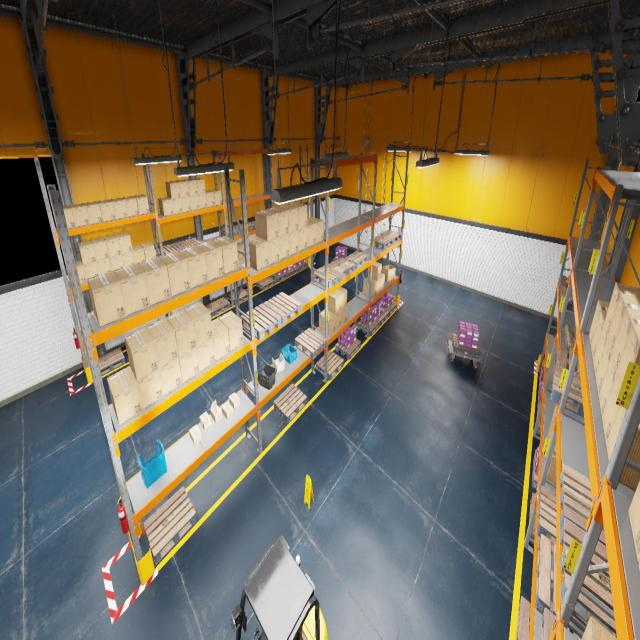box: (606, 406, 640, 491), (87, 271, 126, 326), (107, 366, 142, 425), (604, 282, 640, 337), (113, 263, 150, 315), (608, 294, 640, 354), (124, 327, 159, 381), (612, 307, 640, 373), (137, 257, 171, 305), (146, 317, 178, 368), (616, 324, 640, 388), (158, 251, 191, 296), (166, 309, 196, 356), (177, 245, 208, 288), (184, 302, 213, 346), (602, 375, 620, 445), (195, 240, 224, 281), (138, 369, 164, 410), (211, 236, 239, 274), (599, 356, 616, 418), (218, 310, 243, 351), (628, 480, 640, 562), (589, 299, 609, 346), (159, 357, 182, 396), (596, 338, 611, 396), (581, 616, 617, 640), (211, 318, 230, 361), (591, 310, 607, 360), (178, 347, 200, 382), (593, 324, 607, 378), (255, 209, 278, 241), (266, 207, 289, 237), (249, 236, 268, 270), (197, 337, 215, 372), (277, 204, 298, 233), (286, 202, 307, 230), (70, 203, 90, 227), (77, 240, 96, 264), (84, 201, 103, 224), (90, 237, 108, 261), (546, 442, 556, 484), (319, 310, 335, 336), (308, 217, 324, 243), (103, 235, 121, 257), (98, 200, 116, 222), (110, 198, 127, 219), (116, 232, 132, 254), (133, 194, 150, 214), (122, 196, 138, 217), (62, 205, 76, 229), (83, 262, 99, 282), (328, 291, 341, 314), (268, 238, 279, 265), (140, 242, 156, 260), (75, 260, 87, 284), (158, 197, 173, 216), (188, 424, 202, 444), (363, 277, 377, 297), (279, 233, 289, 260), (210, 400, 222, 422), (335, 287, 347, 309), (183, 179, 198, 196), (368, 262, 382, 280), (175, 180, 189, 198), (166, 180, 180, 198), (289, 230, 299, 255), (382, 264, 395, 282), (132, 245, 145, 263), (200, 411, 212, 430), (121, 251, 135, 267), (97, 258, 111, 274), (192, 178, 206, 194), (110, 255, 124, 270), (222, 401, 233, 420), (368, 277, 381, 293), (308, 221, 316, 247), (209, 189, 222, 205), (299, 227, 307, 251), (229, 392, 240, 408), (172, 197, 182, 214), (550, 355, 556, 382), (181, 196, 191, 212), (198, 193, 207, 209), (206, 190, 214, 207), (190, 195, 199, 210), (547, 416, 553, 438), (237, 242, 245, 258), (335, 310, 341, 330), (341, 306, 347, 325), (380, 273, 385, 290), (553, 414, 556, 442), (553, 404, 556, 426), (239, 256, 245, 264), (551, 340, 554, 354), (550, 427, 553, 439), (638, 560, 640, 572), (554, 330, 557, 337), (239, 241, 244, 244), (238, 258, 240, 264), (556, 350, 556, 354)
forklift: (230, 534, 328, 639)
pallets: (560, 518, 616, 637), (535, 534, 582, 638), (560, 464, 606, 559), (144, 487, 196, 564), (550, 366, 584, 418), (241, 303, 281, 341), (273, 384, 307, 423), (541, 608, 581, 640), (264, 292, 301, 325), (537, 485, 556, 544), (294, 328, 326, 359), (316, 350, 344, 380), (556, 344, 580, 376), (98, 348, 125, 376), (452, 334, 479, 358), (516, 596, 530, 640), (314, 266, 342, 288), (335, 338, 361, 359), (328, 258, 355, 278), (345, 251, 368, 269), (208, 297, 230, 315), (357, 319, 380, 336), (564, 324, 576, 356), (371, 234, 394, 250), (559, 286, 574, 310), (159, 242, 184, 255), (529, 493, 535, 545), (380, 229, 402, 243), (228, 289, 248, 304), (221, 225, 242, 237), (256, 277, 275, 290), (532, 449, 538, 490), (234, 222, 256, 233), (177, 238, 201, 248), (559, 275, 572, 293), (375, 310, 389, 325), (384, 302, 397, 316), (271, 272, 288, 282), (536, 405, 541, 435), (205, 305, 214, 317), (286, 267, 298, 276), (296, 262, 308, 271), (538, 369, 542, 390), (537, 385, 540, 410), (251, 220, 255, 227), (332, 256, 337, 261), (90, 326, 92, 331)
